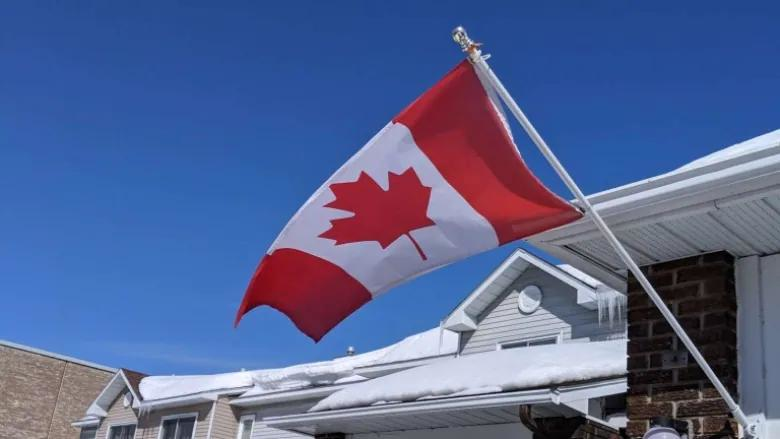Canada flag: (234, 56, 588, 345)
